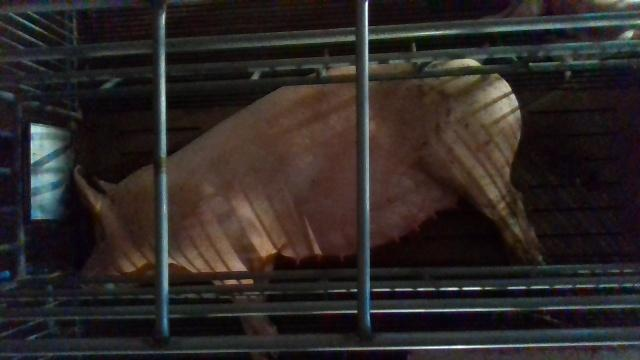sow-sleep-lactate: (76, 58, 541, 334)
